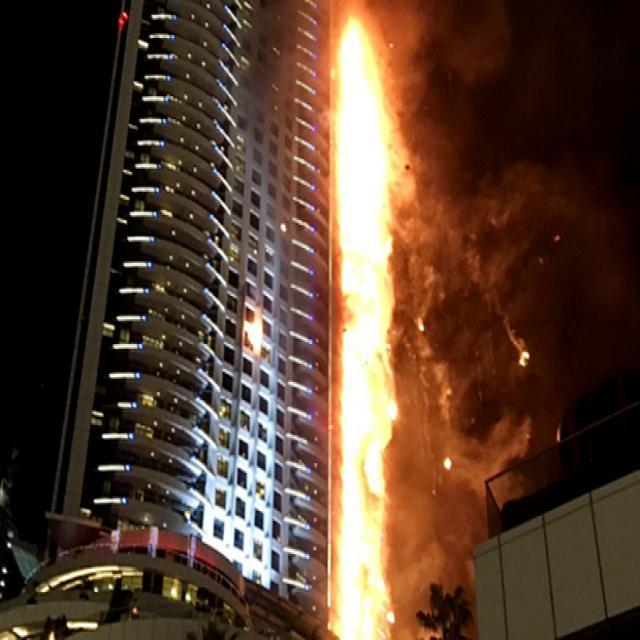Fire: (334, 0, 402, 640)
Smoke: (406, 0, 554, 640)
